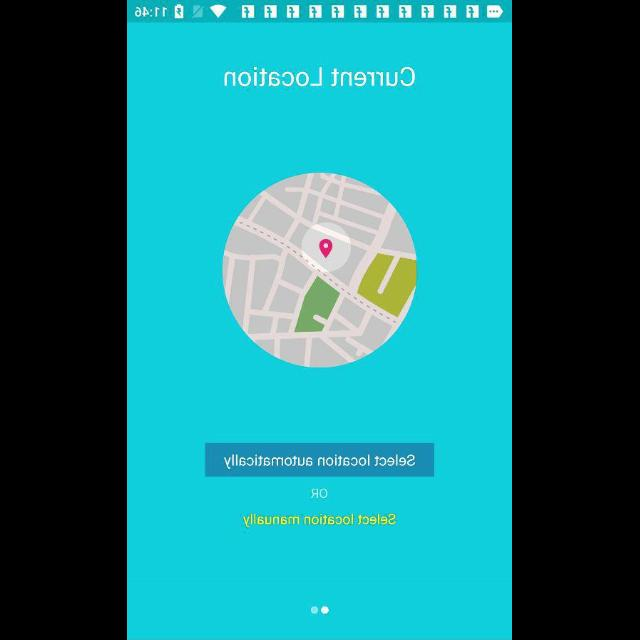image: (223, 173, 417, 367)
pageindicator: (310, 606, 330, 614)
text: (224, 66, 416, 88), (243, 512, 397, 528), (312, 488, 328, 499)
textbutton: (205, 443, 435, 477)
uppertaskbar: (128, 1, 512, 23)
